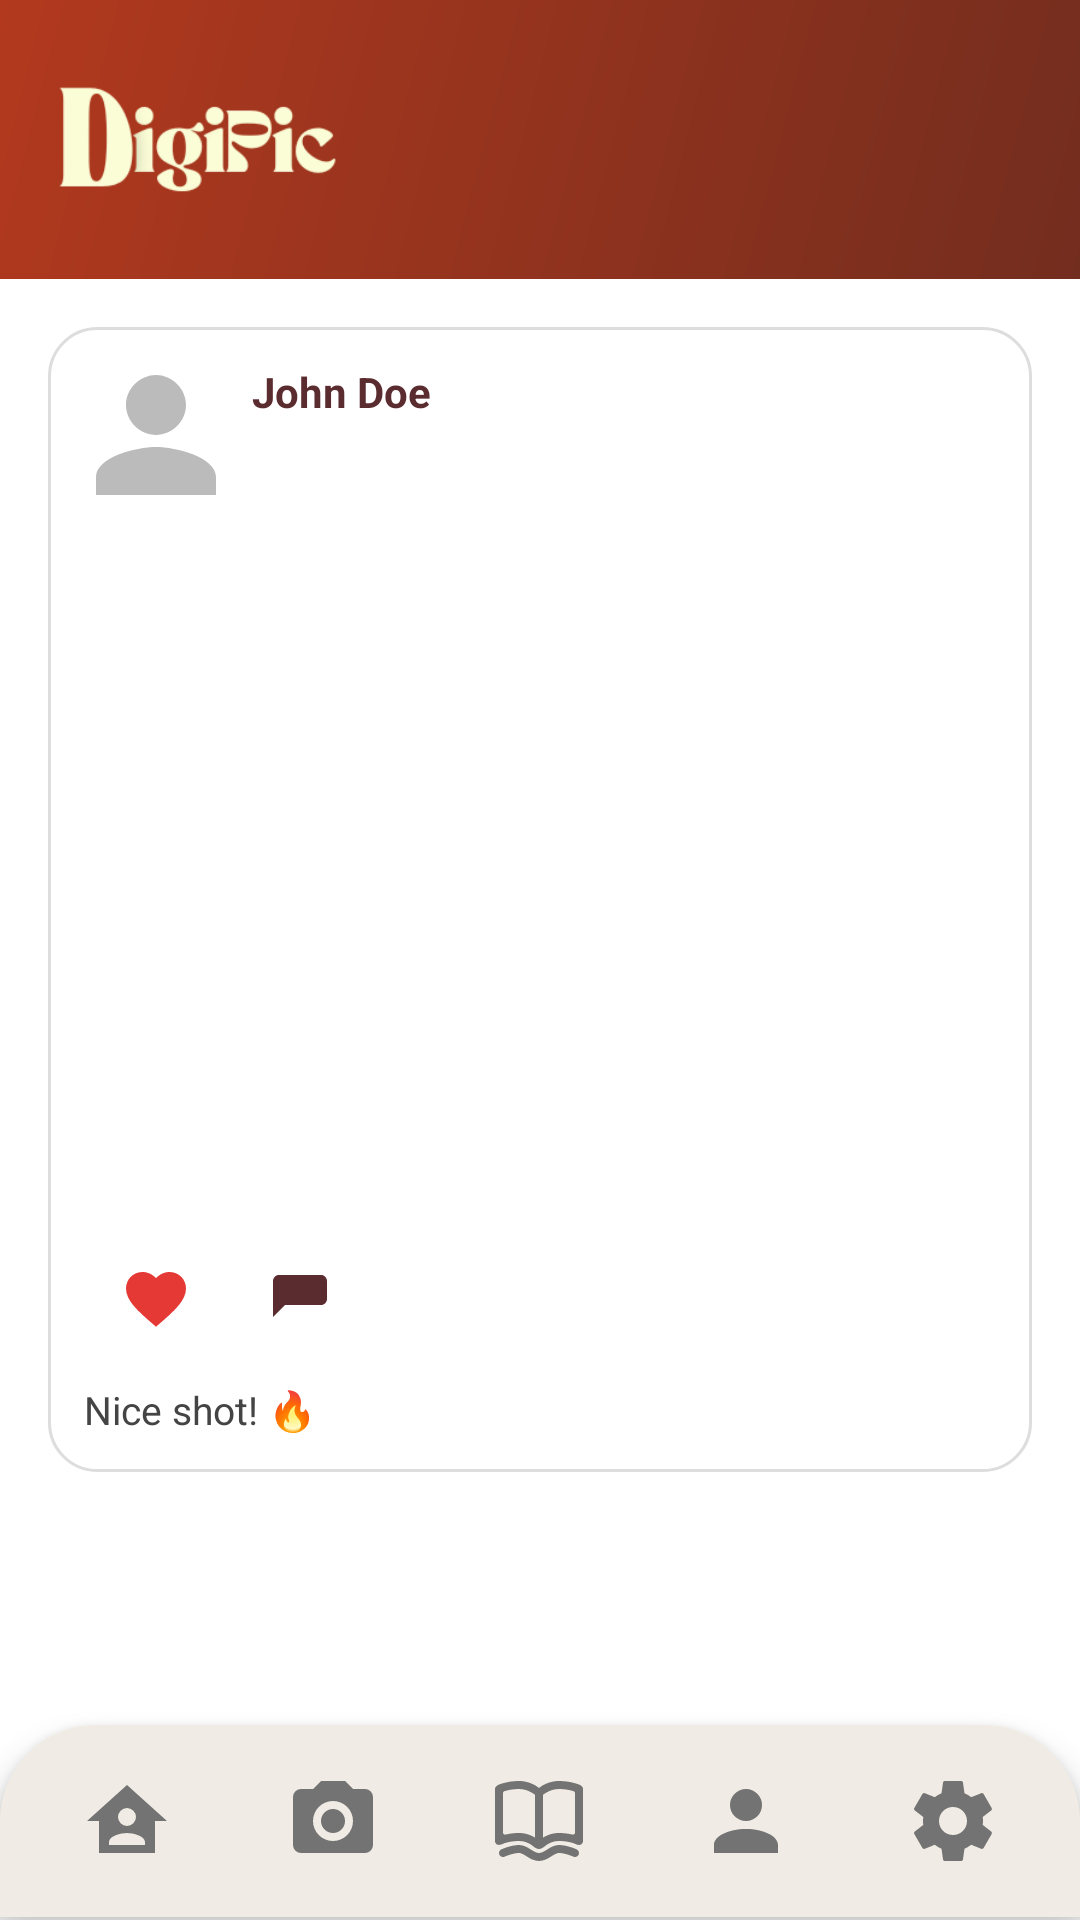

Icon click points for this 1080 × 1920 phone screenshot, format [x,y]:
Comment on this post: [300,1296]
Home: [127,1819]
Like this post: [156,1299]
Profile: [746,1821]
Settings: [953,1821]
